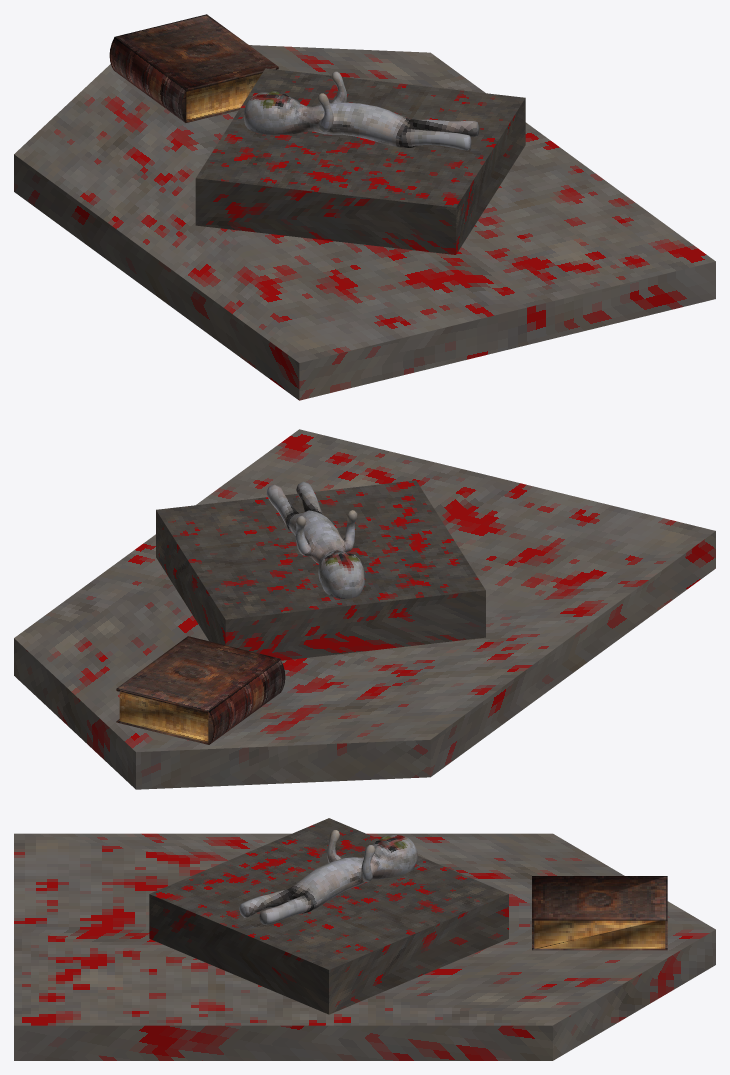
File: Illuminati.fbx
3 renders of one model, top to bottom at view 1: azimuth 30°, elevation 25°; view 2: azimuth 150°, elevation 25°; view 3: azimuth 270°, elevation 25°, orthographic. The views are drawn at different scales.
Visible parts, largest first — view 1: Plane.002, Cube.001; view 2: Plane.002, Cube.001; view 3: Plane.002, Cube.001.
Boxes of the visible parts, left/top/right/bottom form: Plane.002: left=14, top=14, right=715, bottom=400; Cube.001: left=195, top=68, right=525, bottom=254; Plane.002: left=14, top=429, right=715, bottom=789; Cube.001: left=156, top=480, right=485, bottom=660; Plane.002: left=14, top=833, right=715, bottom=1060; Cube.001: left=149, top=818, right=508, bottom=1014.
Size of the model in its own units: 439 by 136 by 678.
Materials: 4 (4 with a texture image).
